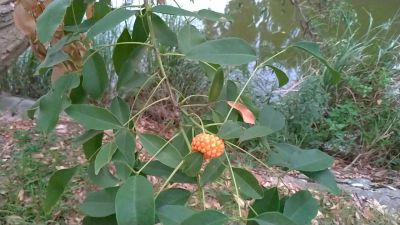eggs: (191, 128, 229, 160)
